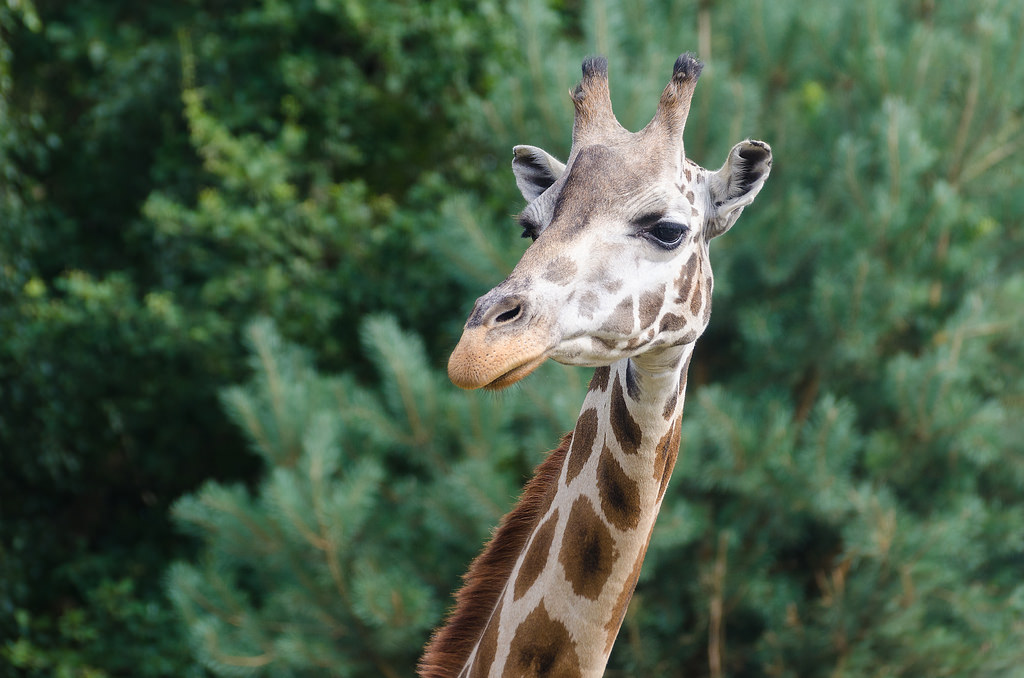giraffe: (397, 43, 793, 675)
